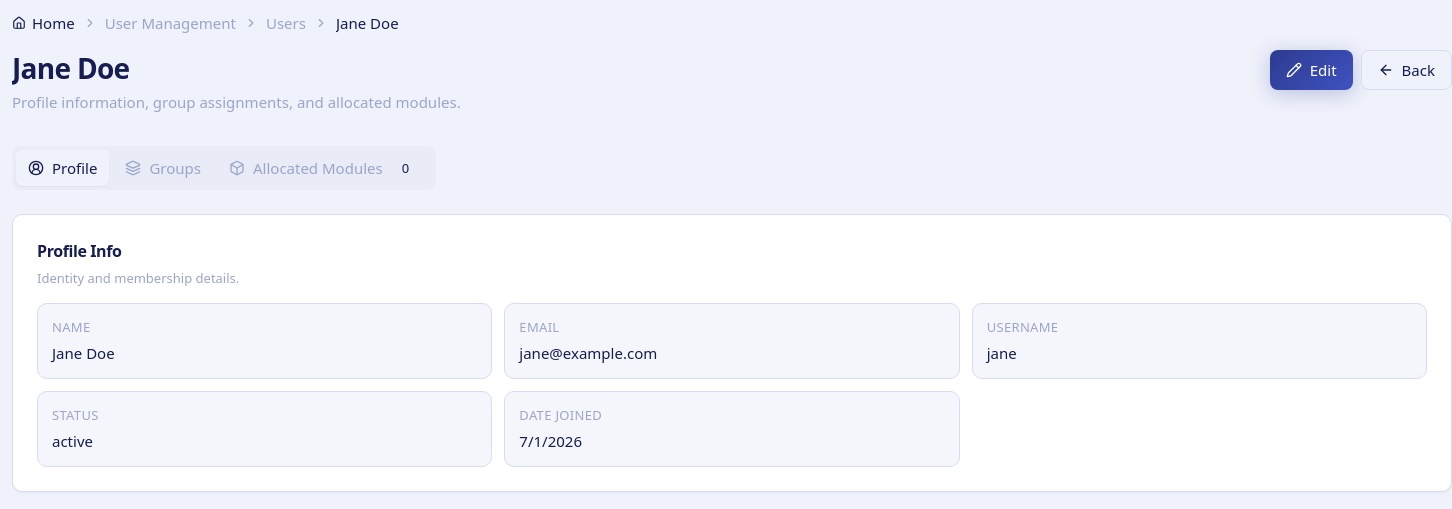
Test: UserMemberView › uses the loaded user id when fetching a viewed user's groups
Step 1. Press the mouse on the tab "Groups" → (163, 168), box [113, 150, 213, 186]
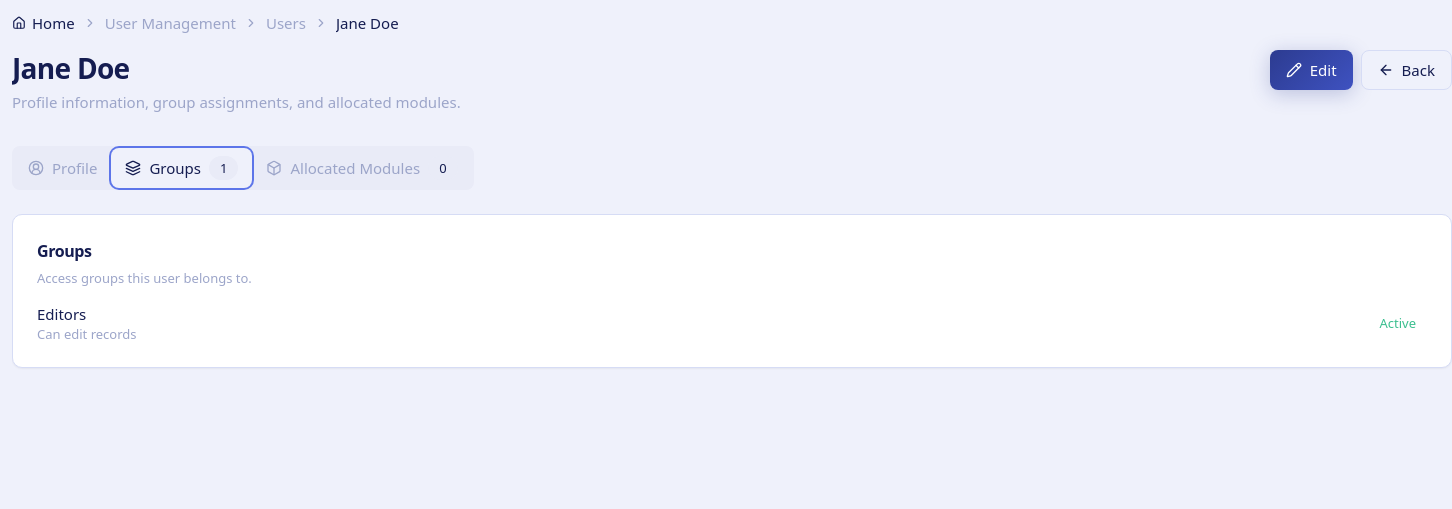
Check: the text "Editors" is shown, box [37, 304, 86, 324]
